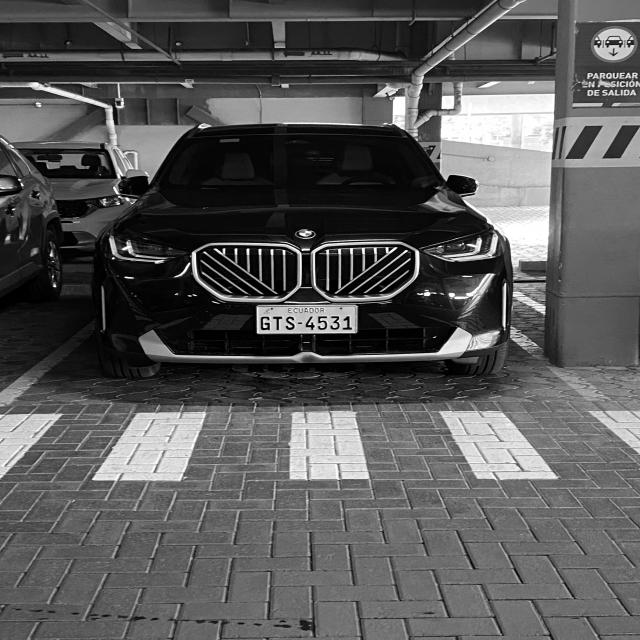Placa: (257, 305, 357, 334)
